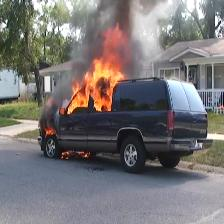fire: (66, 21, 130, 114)
